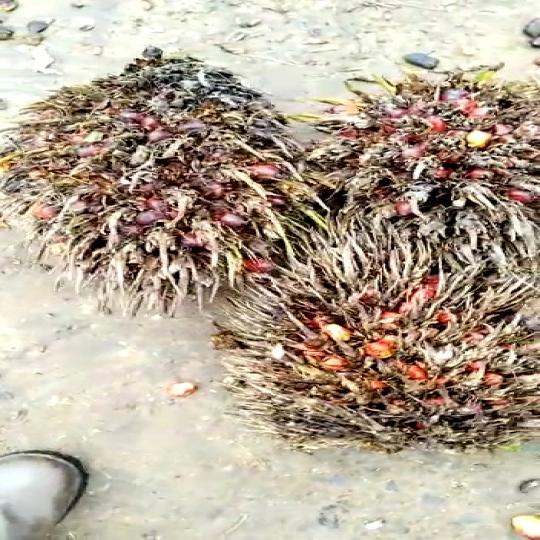terlalu masak: (0, 51, 303, 298), (173, 257, 540, 448)
